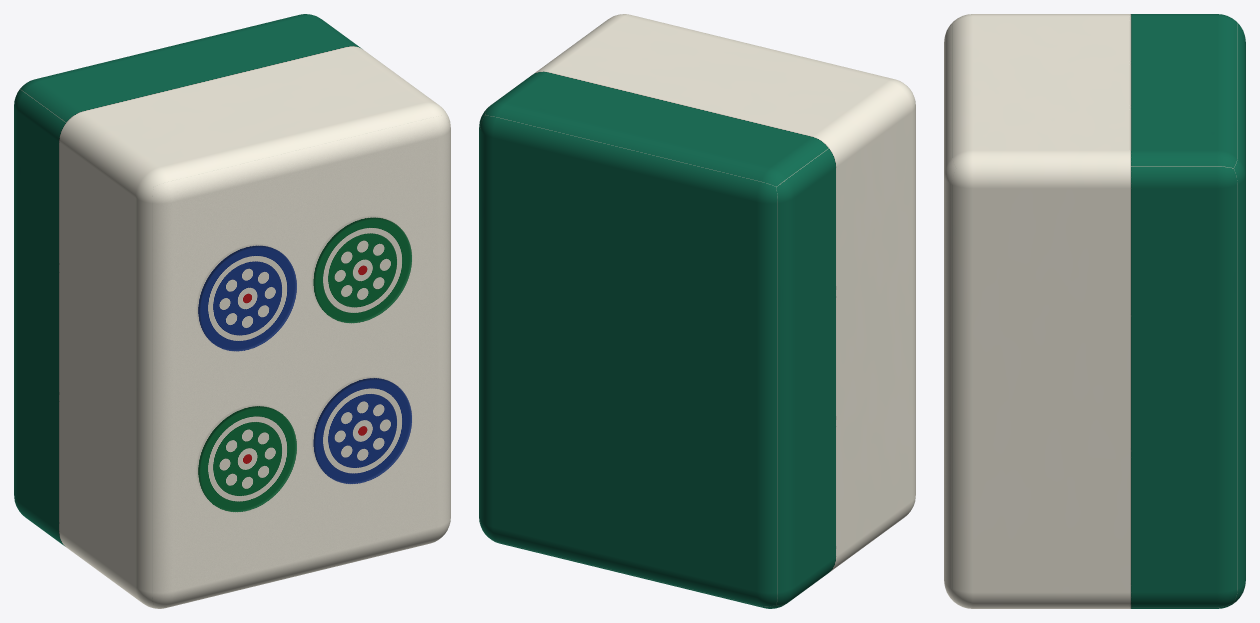
Rendered from tile_4p.obj.
3 renders of one model, left to right at view 1: azimuth 30°, elevation 25°; view 2: azimuth 150°, elevation 25°; view 3: azimuth 270°, elevation 25°, orthographic. The views are drawn at different scales.
Visible parts, largest first — view 1: tile_4p; view 2: tile_4p; view 3: tile_4p.
Boxes of the visible parts, box(x1,y1,x2,y2) form: tile_4p: box(14, 14, 450, 608); tile_4p: box(479, 14, 915, 608); tile_4p: box(944, 14, 1245, 608).
Size of the model in its own units: 0.026 by 0.035 by 0.021.
Materials: 1 (1 with a texture image).
